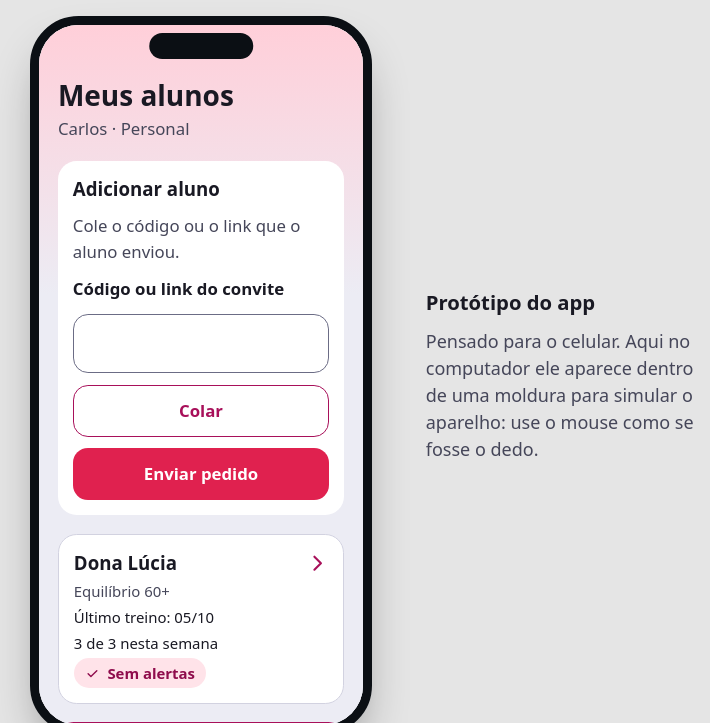
Test: lista de alunos › tocar num aluno abre o relatório dele
Click the link "Dona Lúcia": (201, 619) [58,534,344,704]
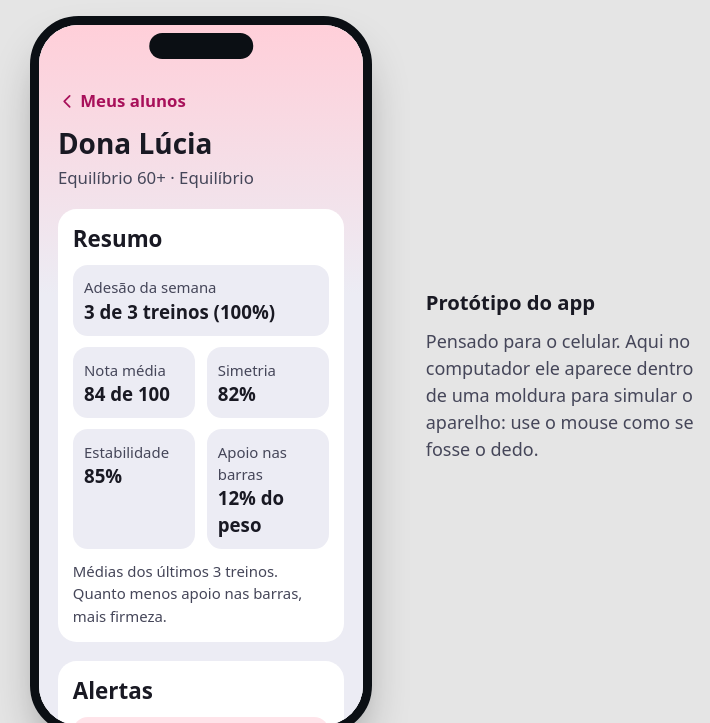
Expected: the heading "Dona Lúcia" is shown, [58,124,212,162]
